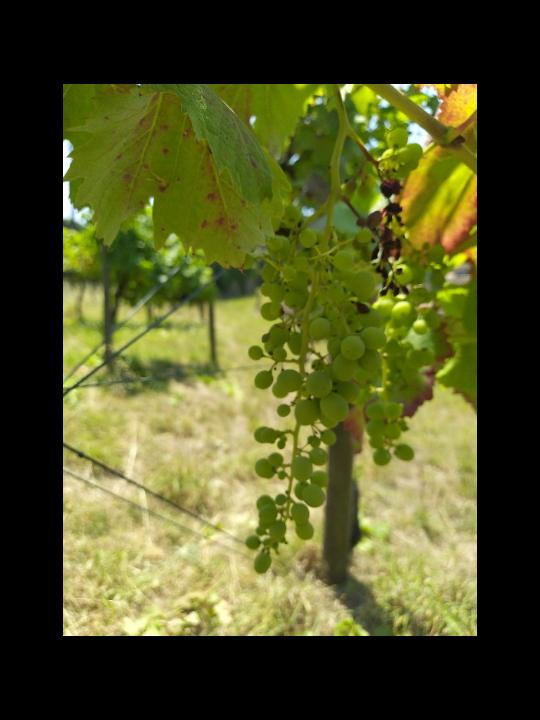grape: (241, 225, 387, 574), (351, 173, 422, 299)
